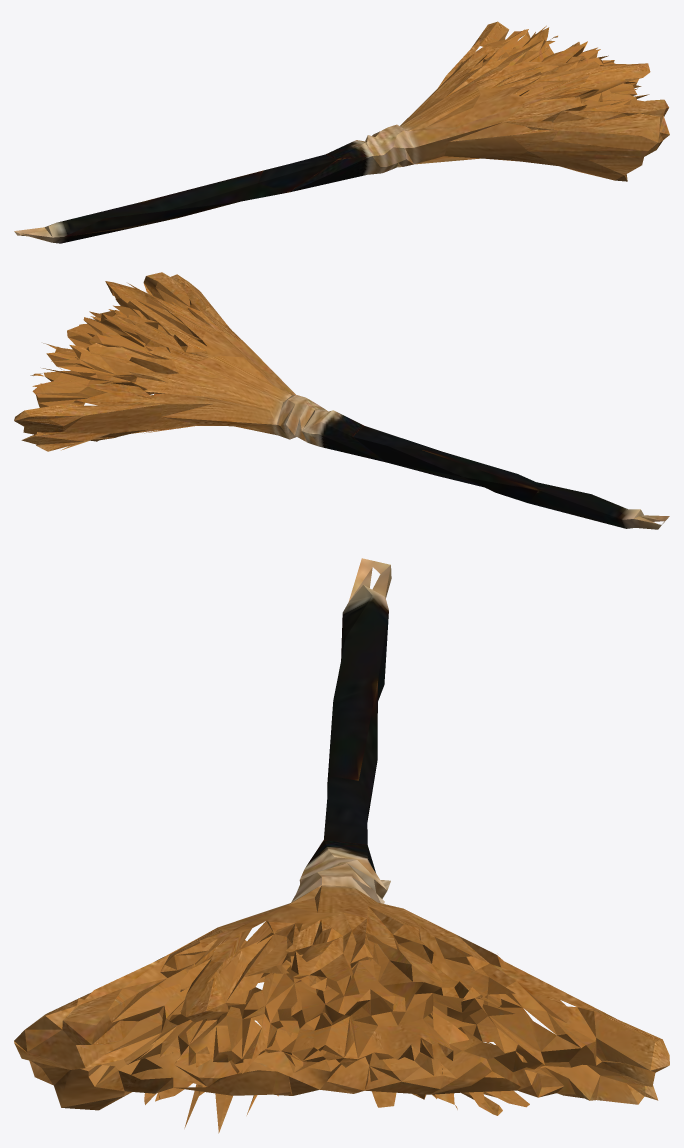
Rendered from w3hbroom.glb.
3 views of the same model, one above another, from view 1: azimuth 30°, elevation 25°; view 2: azimuth 150°, elevation 25°; view 3: azimuth 270°, elevation 25° (orthographic). The views are drawn at different scales.
Parts seen in each view (by area): view 1: output_unwrapped; view 2: output_unwrapped; view 3: output_unwrapped.
Boxes of the visible parts, left/top/right/bottom form: output_unwrapped: left=14, top=21, right=669, bottom=243; output_unwrapped: left=14, top=272, right=669, bottom=529; output_unwrapped: left=14, top=558, right=669, bottom=1133.
Size of the model in its own units: 1.05 by 0.1443 by 0.5086.
Materials: 1 (1 with a texture image).
